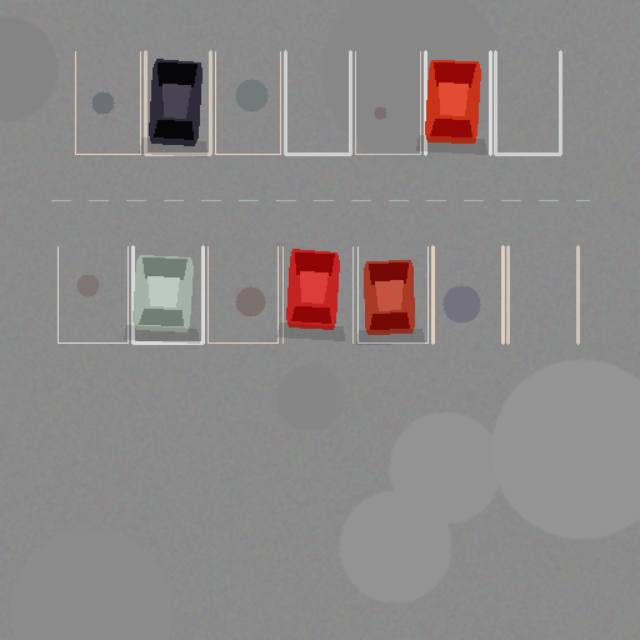space-empty: (57, 246, 127, 343), (207, 246, 277, 343), (433, 246, 503, 343), (507, 246, 577, 343), (75, 51, 140, 154), (215, 51, 280, 154), (285, 51, 350, 154), (355, 51, 420, 154), (495, 51, 560, 154)
space-occupied: (133, 246, 203, 343), (283, 246, 353, 343), (357, 246, 427, 343), (145, 51, 210, 154), (425, 51, 490, 154)
